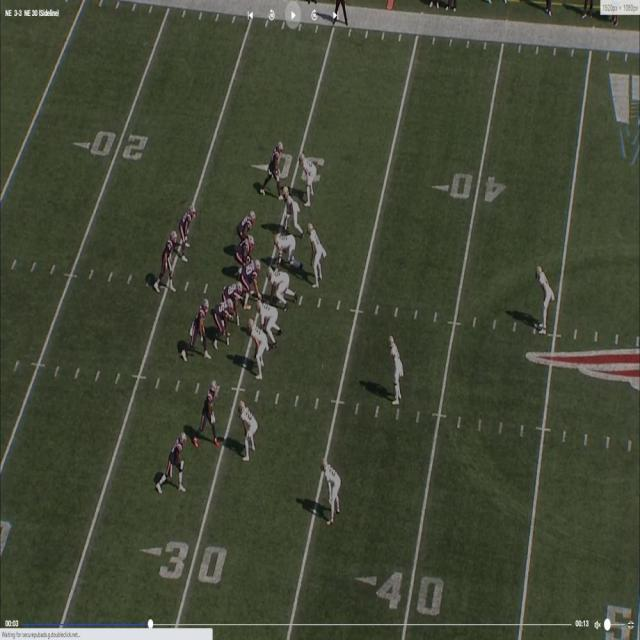center: (246, 260, 263, 296)
db: (322, 464, 340, 520), (241, 398, 258, 456), (540, 266, 554, 334), (300, 156, 316, 206), (392, 336, 404, 401)
lb: (308, 225, 324, 290), (247, 316, 264, 374)
qb: (157, 228, 176, 289)
skill: (164, 430, 189, 489), (266, 140, 288, 194), (203, 378, 219, 444), (193, 299, 209, 363), (281, 188, 299, 230), (179, 208, 193, 260)
